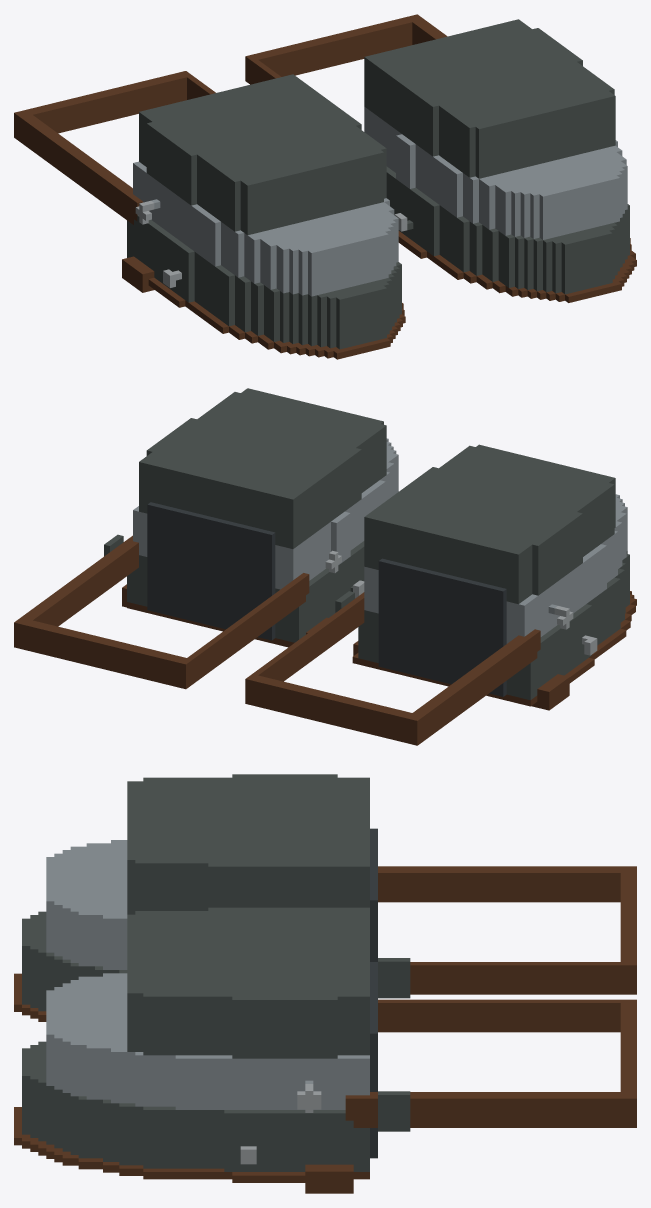
Rendered from sheet_metal_sabatons.glb.
The picture shows the model from 3 angles, top to bottom: view 1: azimuth 30°, elevation 25°; view 2: azimuth 150°, elevation 25°; view 3: azimuth 270°, elevation 25°; orthographic projection. The views are drawn at different scales.
Parts seen in each view (by area): view 1: sheet_metal_sabatons:compound; view 2: sheet_metal_sabatons:compound; view 3: sheet_metal_sabatons:compound.
Part boxes in pixels (x1,y1,x2,y2): sheet_metal_sabatons:compound: (14,14,636,359); sheet_metal_sabatons:compound: (14,388,636,745); sheet_metal_sabatons:compound: (14,774,636,1193).
Size of the model in its own units: 0.288 by 0.1 by 0.308.
